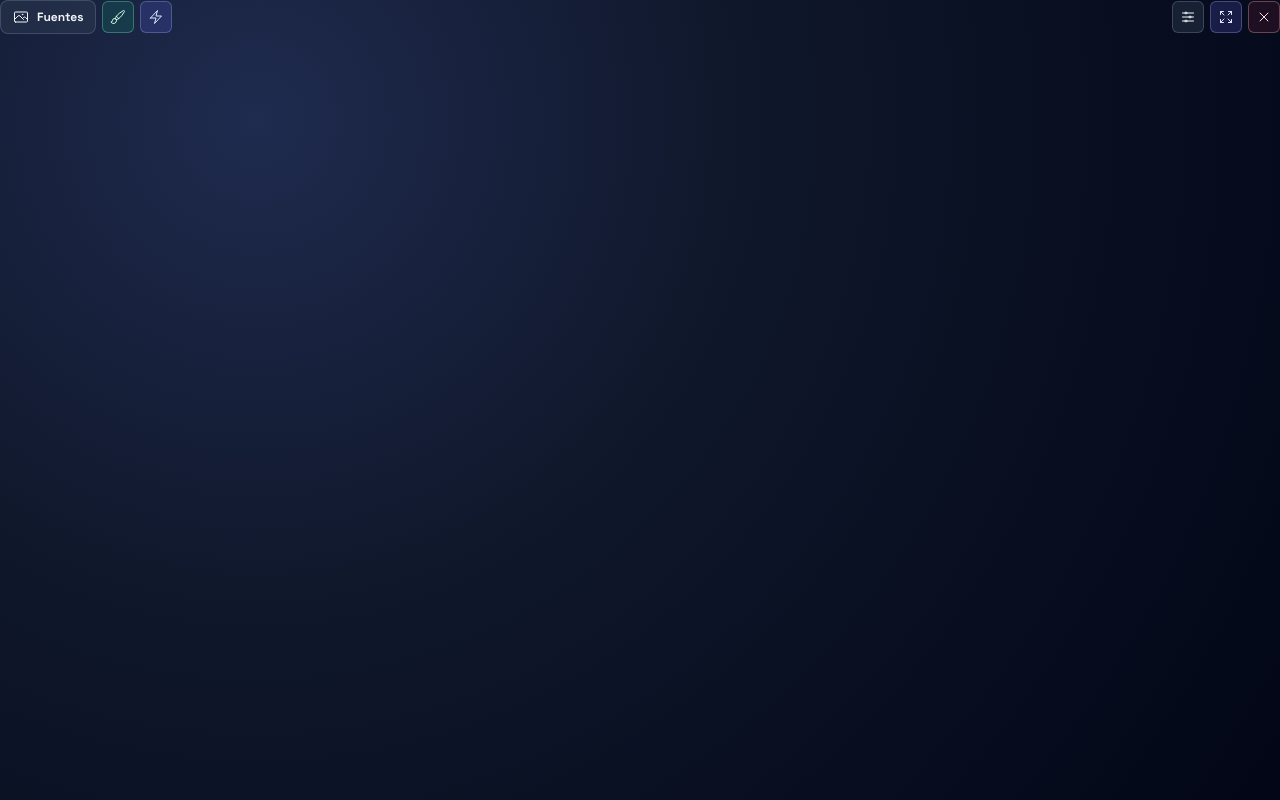
it: MonitorControls › ubica el boton de fuentes a la izquierda de pizarra y abre el modal
Click the button with test id "monitor-open-source-modal" at [48, 17], box [0, 0, 96, 34]
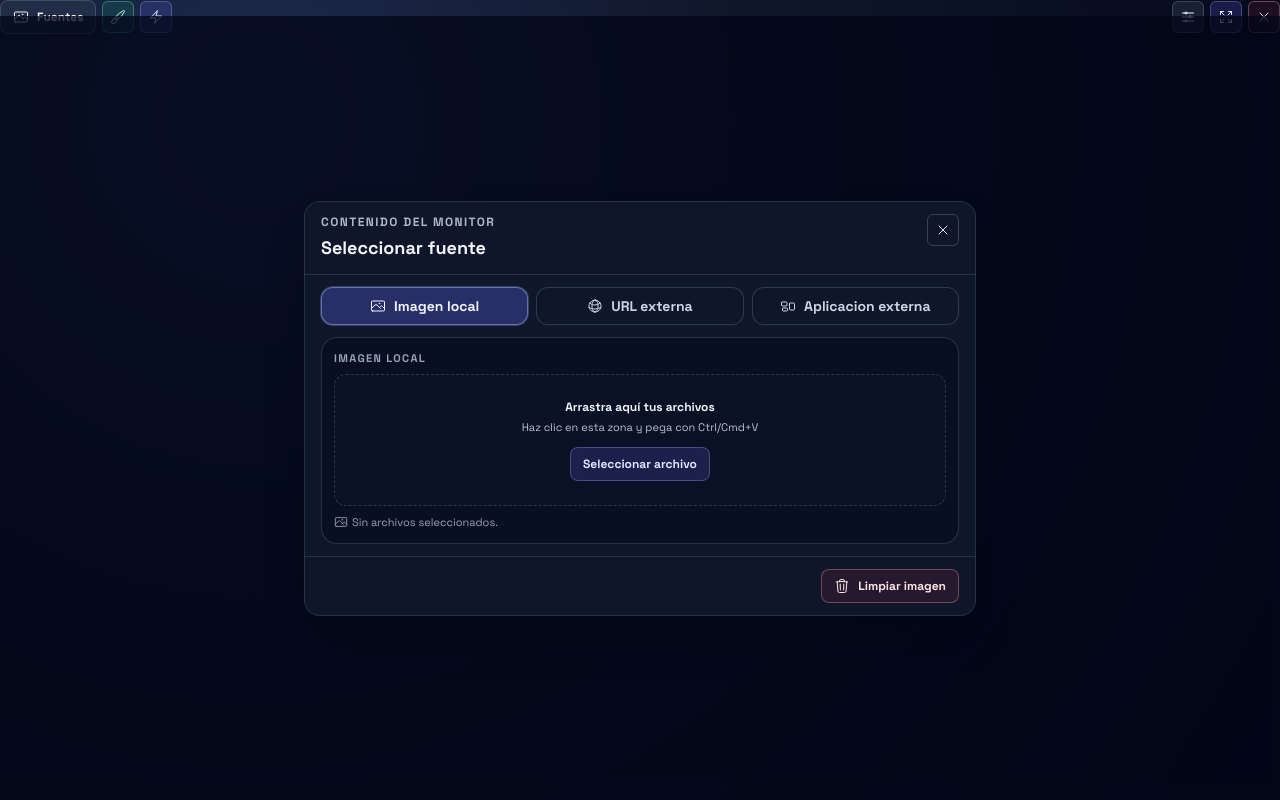
Now the dialog with test id "monitor-source-modal" is shown, box [304, 200, 976, 616]
Now the panel with test id "monitor-source-panel-local-image" is shown, box [321, 336, 959, 544]
